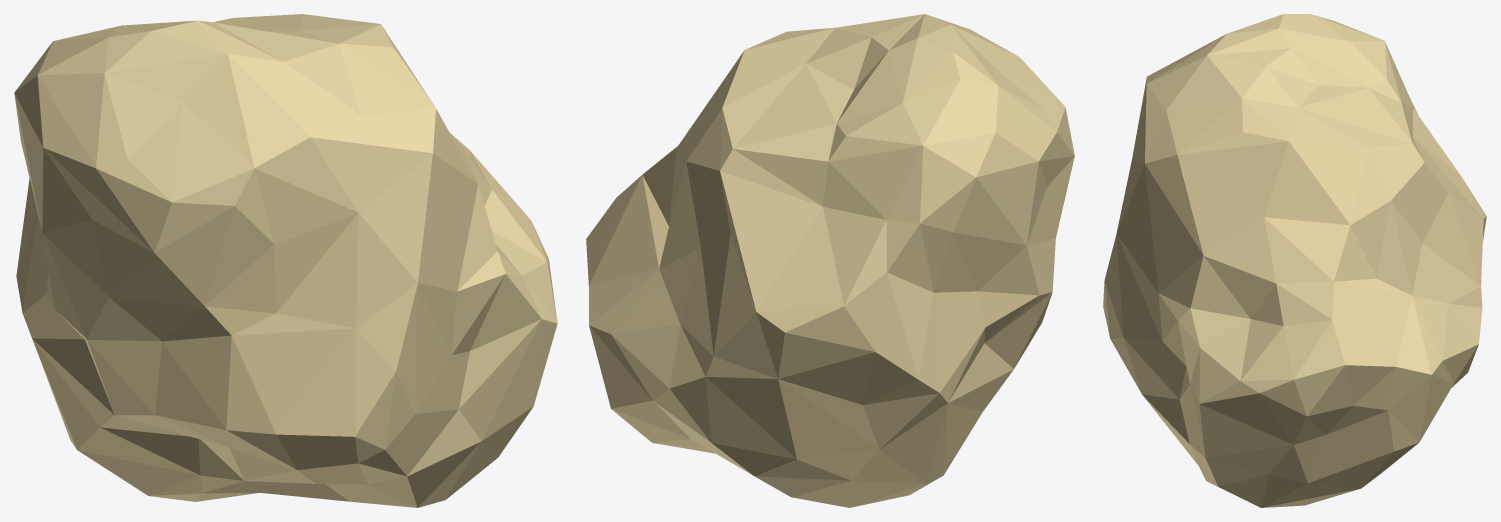
Rendered from Asteroid (126).fbx.
The picture shows the model from 3 angles, left to right: view 1: azimuth 30°, elevation 25°; view 2: azimuth 150°, elevation 25°; view 3: azimuth 270°, elevation 25°; orthographic projection. The views are drawn at different scales.
Visible parts, largest first — view 1: Asteroid124; view 2: Asteroid124; view 3: Asteroid124.
Part boxes in pixels (x1,y1,x2,y2): Asteroid124: (14,14,557,507); Asteroid124: (586,14,1074,507); Asteroid124: (1103,14,1486,507).
Bounding box in the file's own units: 200 × 200 × 177.
